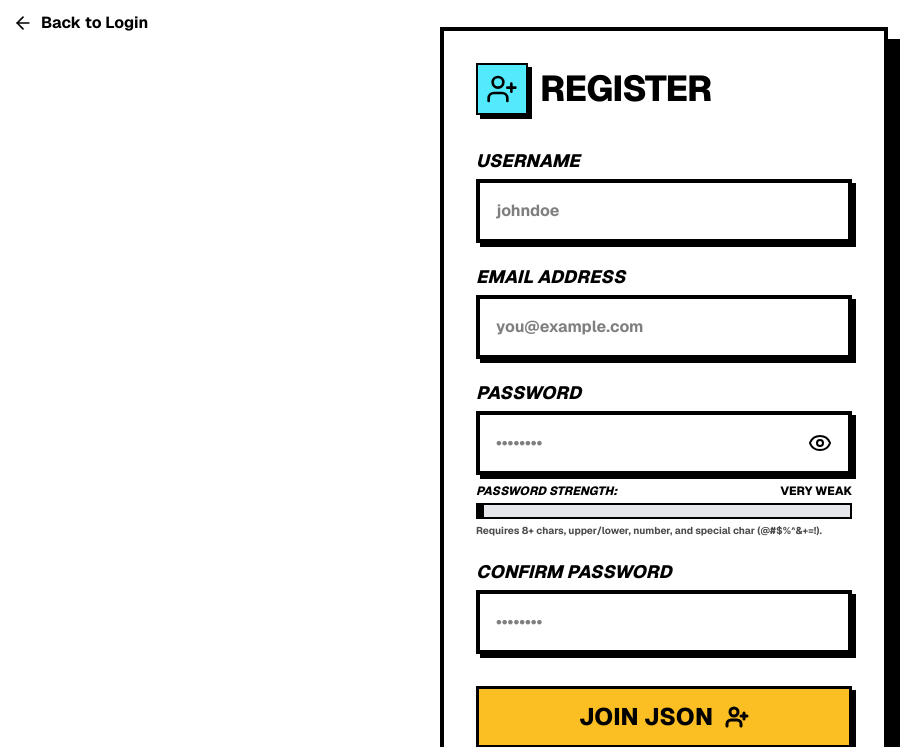
Authentication Pages › RegisterPage › validates matching passwords
In the field with placeholder "johndoe": (664, 211) top-left (476, 179), bottom-right (852, 243), type "testuser"
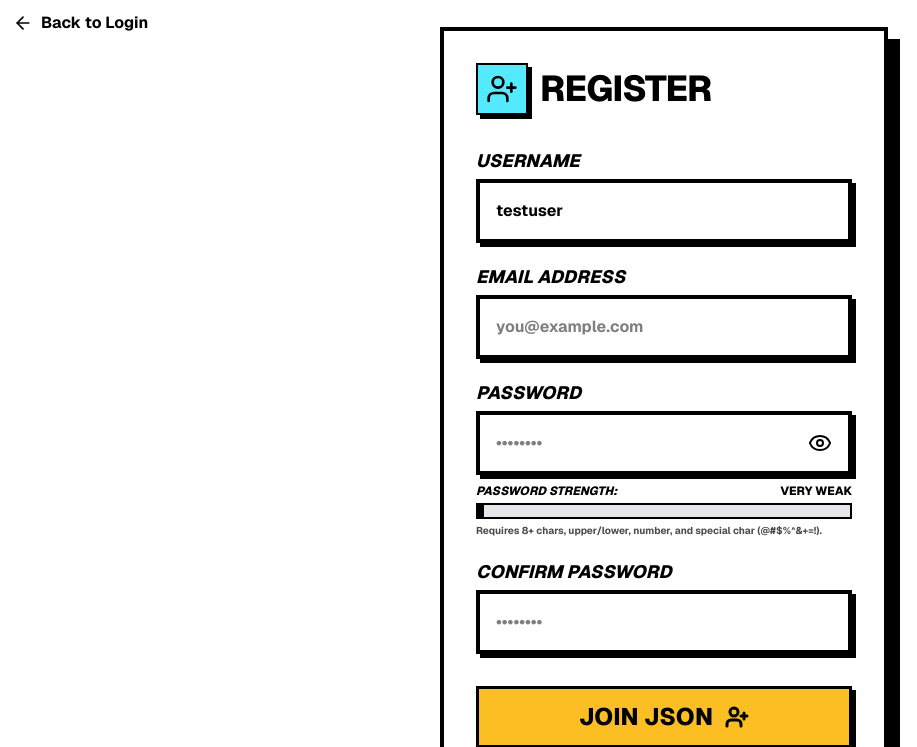
In the field with placeholder "you@example.com": (664, 327) top-left (476, 295), bottom-right (852, 359), type "test@example.com"
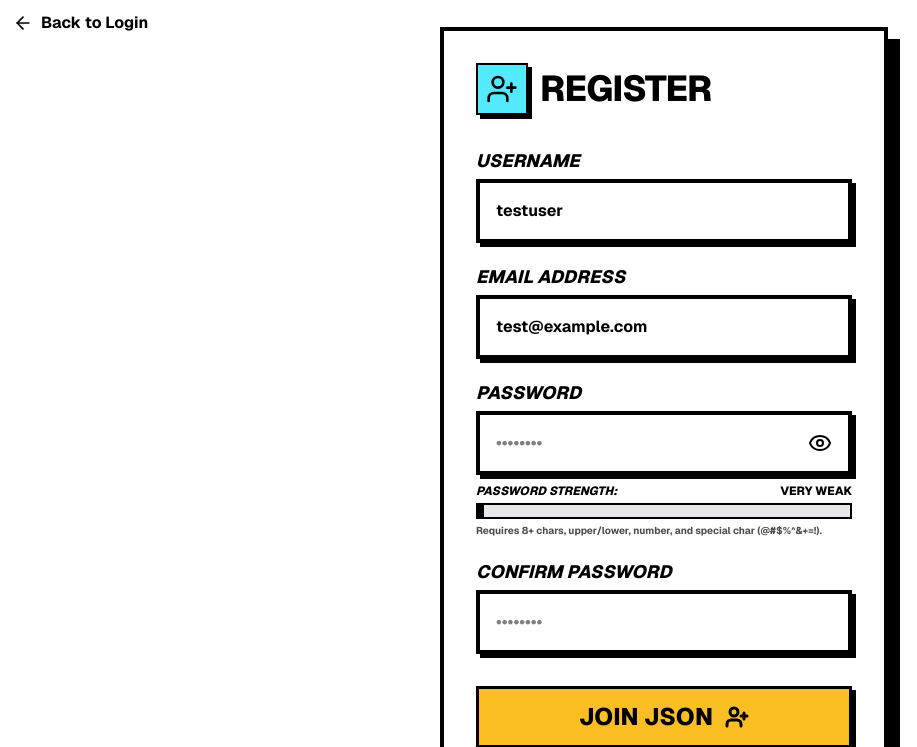
In the password field with placeholder "••••••••": (664, 443) top-left (476, 411), bottom-right (852, 475), type "Password123!"
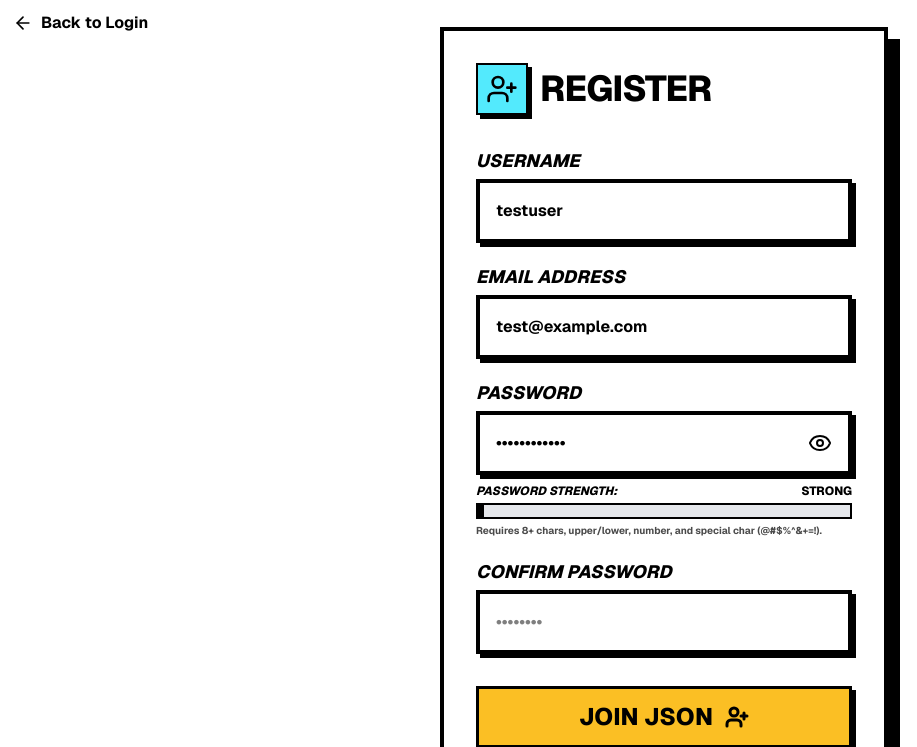
In the password field with placeholder "••••••••": (664, 622) top-left (476, 590), bottom-right (852, 654), type "mismatch"
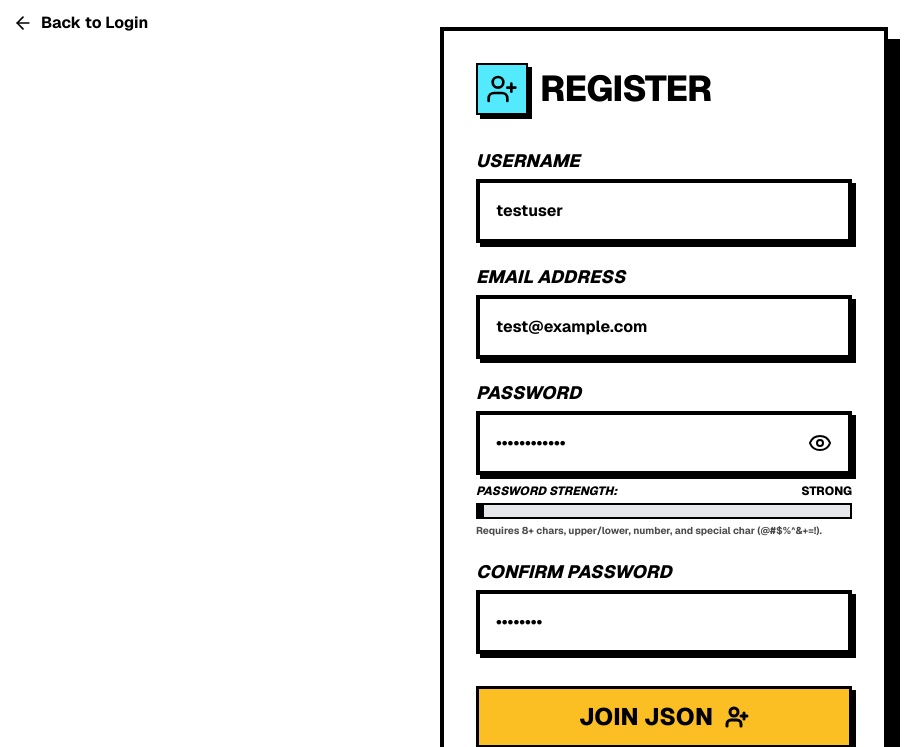
Click the button "Join JSON": (664, 717) top-left (476, 686), bottom-right (852, 746)
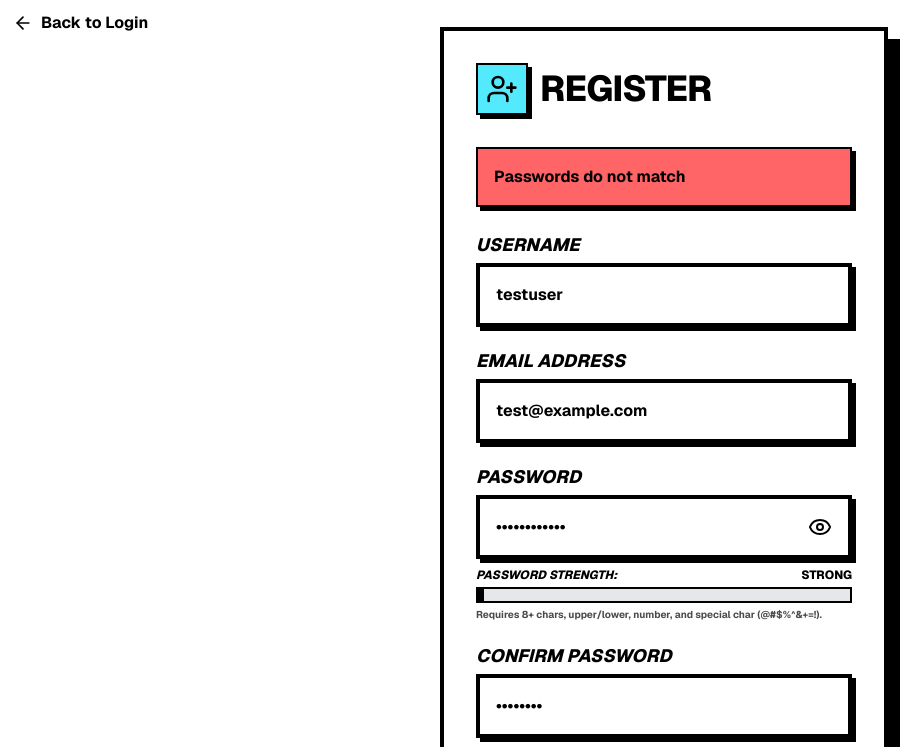
Now the text "Passwords do not match" is shown, box top-left (476, 147), bottom-right (852, 207)
